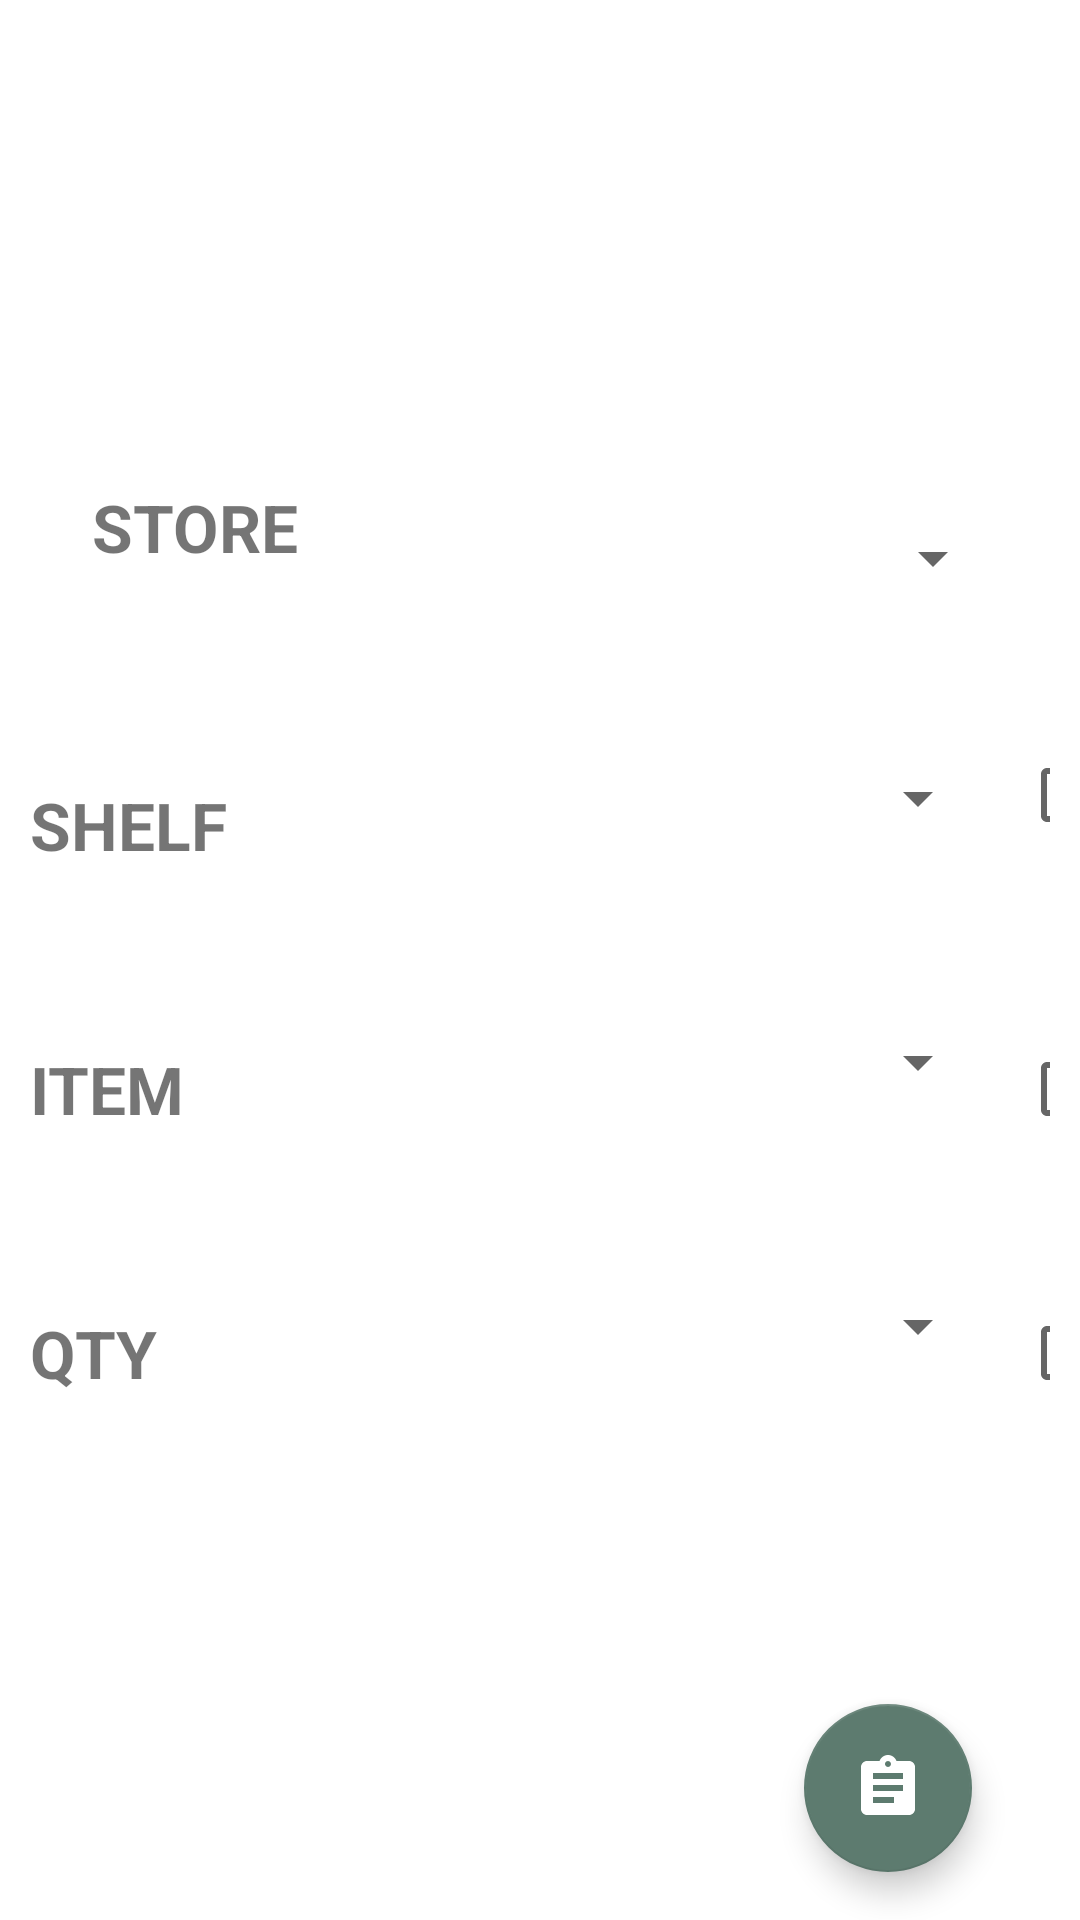

Named icons in this screenshot (1080px x 1920px) and their bounding boxes, (x1, y1, x2, y2):
invoice: (804, 1704, 972, 1872)
